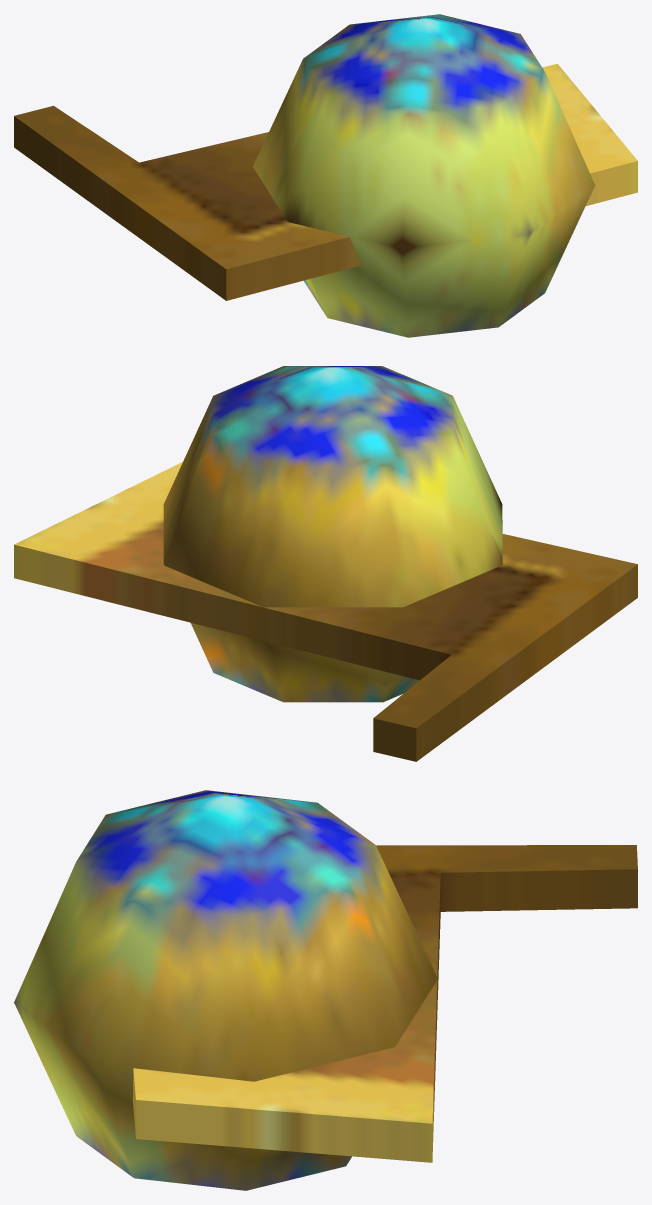
3 renders of one model, top to bottom at view 1: azimuth 30°, elevation 25°; view 2: azimuth 150°, elevation 25°; view 3: azimuth 270°, elevation 25°, orthographic. The views are drawn at different scales.
Parts seen in each view (by area): view 1: aw220; view 2: aw220; view 3: aw220.
Boxes of the visible parts, x1=… form: aw220: x1=14, y1=14, x2=637, y2=337; aw220: x1=14, y1=366, x2=637, y2=761; aw220: x1=14, y1=790, x2=637, y2=1190.
Size of the model in its own units: 11.88 by 7.7 by 11.24.
Materials: 1 (1 with a texture image).
